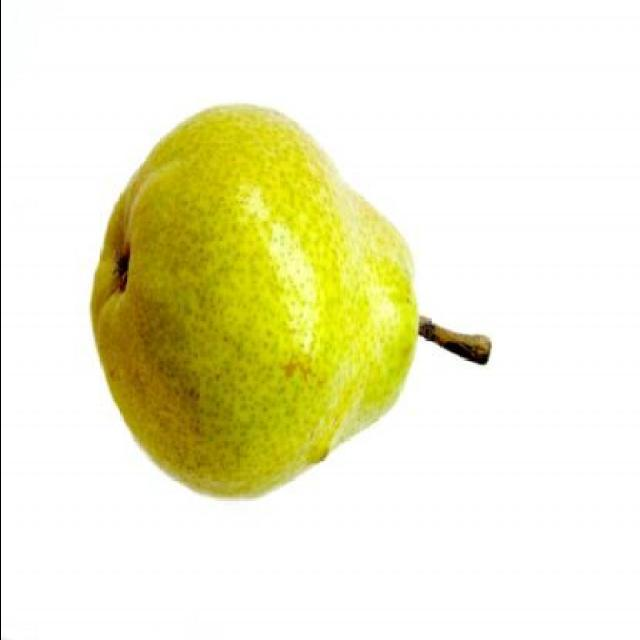Pear: (91, 104, 422, 498)
